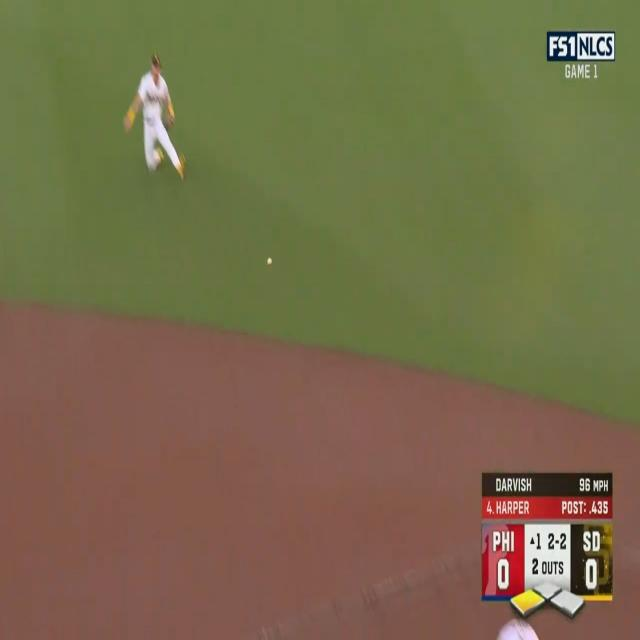baseball: (267, 258, 272, 265)
